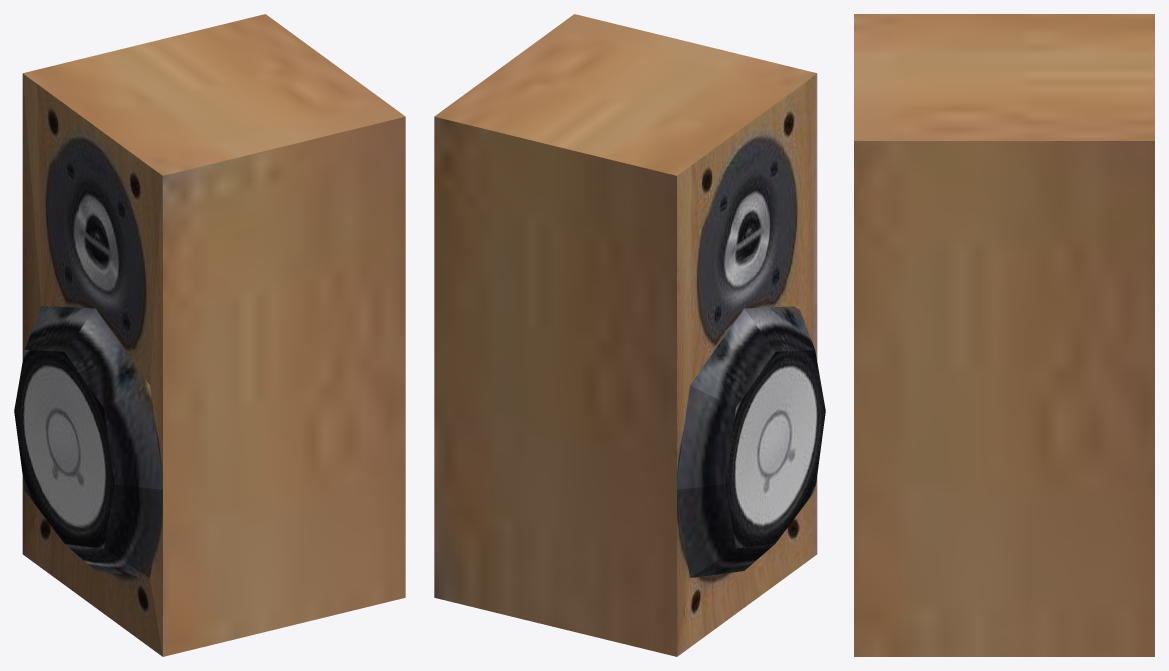
Rendered from kolonka2.fbx.
3 views of the same model, side by side, from view 1: azimuth 30°, elevation 25°; view 2: azimuth 150°, elevation 25°; view 3: azimuth 270°, elevation 25° (orthographic). The views are drawn at different scales.
Visible parts, largest first — view 1: Cube.001; view 2: Cube.001; view 3: Cube.001.
Boxes of the visible parts, box(x1,y1,x2,y2) form: Cube.001: box(14, 14, 405, 656); Cube.001: box(434, 14, 825, 656); Cube.001: box(854, 14, 1154, 656).
Size of the model in its own units: 48.26 by 81.76 by 43.21.
1 material, 1 textured.
